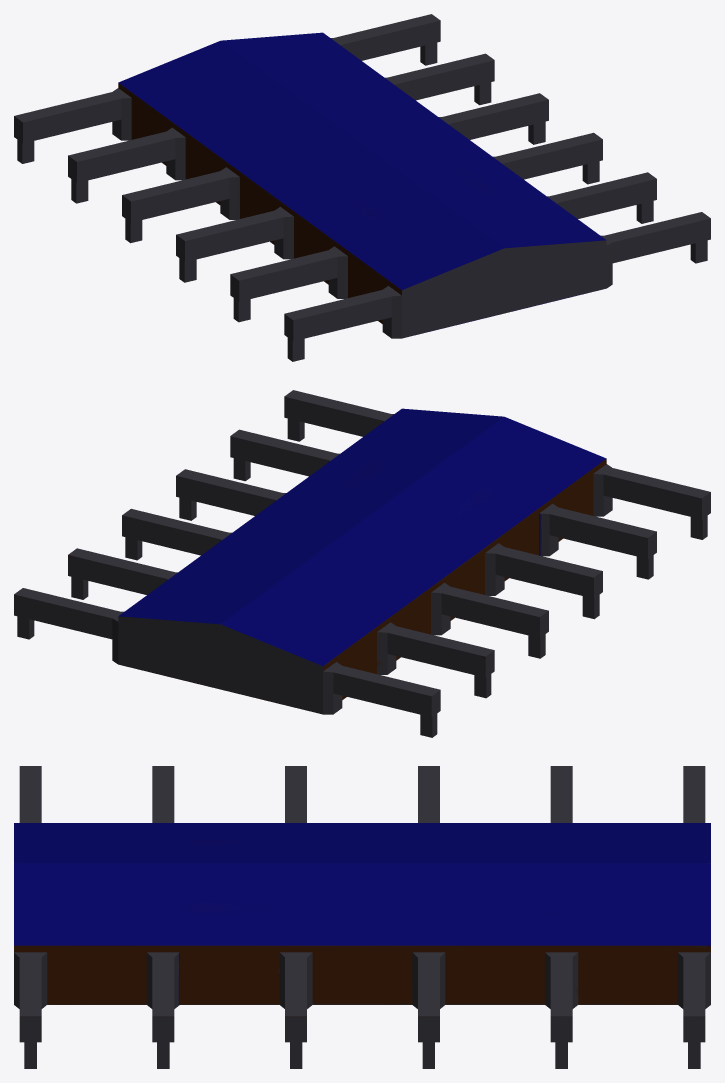
File: Termenal.fbx
The picture shows the model from 3 angles, top to bottom: view 1: azimuth 30°, elevation 25°; view 2: azimuth 150°, elevation 25°; view 3: azimuth 270°, elevation 25°; orthographic projection. The views are drawn at different scales.
Visible parts, largest first — view 1: Cube; view 2: Cube; view 3: Cube.
Part boxes in pixels (box(x1,y1,x2,y2)): Cube: box(14, 14, 710, 361); Cube: box(14, 390, 710, 737); Cube: box(14, 766, 710, 1068).
Bounding box in the file's own units: 25500 × 3852 × 30000.
1 material, 1 textured.
